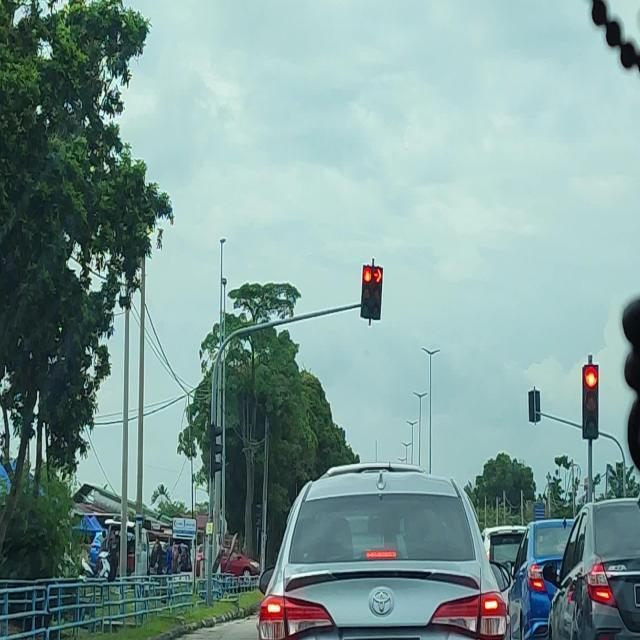red_light: (582, 362, 598, 440), (360, 264, 373, 318), (372, 266, 383, 320)
